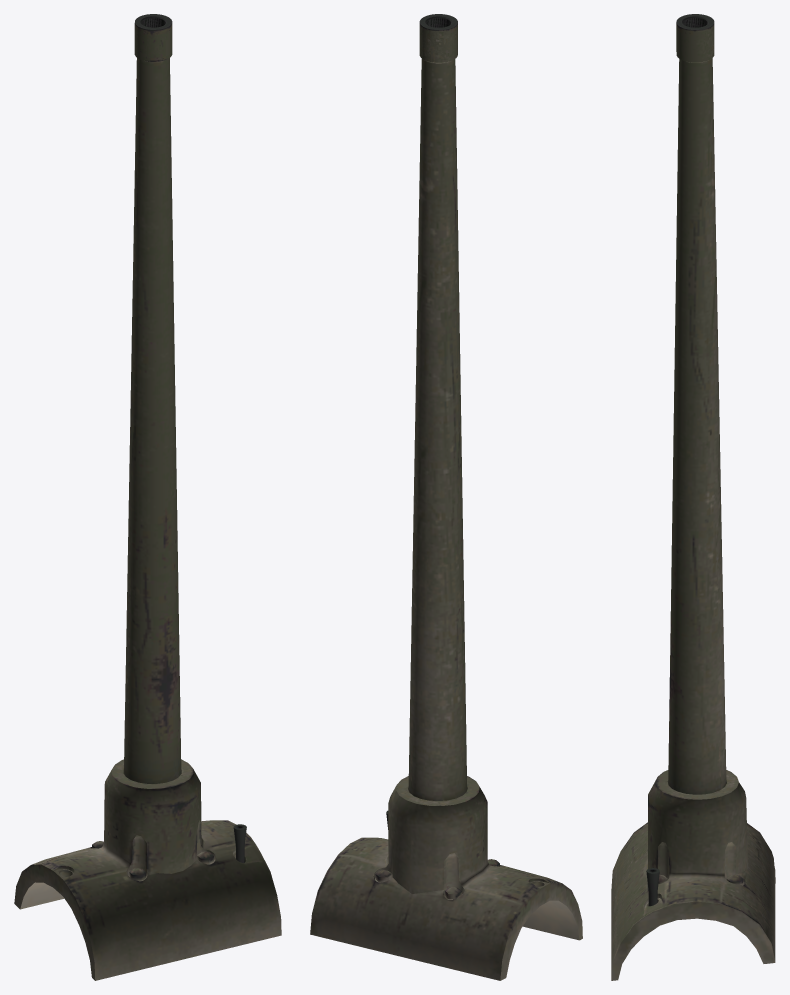
The model's file is Gun_01.glb.
3 views of the same model, side by side, from view 1: azimuth 30°, elevation 25°; view 2: azimuth 150°, elevation 25°; view 3: azimuth 270°, elevation 25° (orthographic). The views are drawn at different scales.
Parts seen in each view (by area): view 1: set_0_group_0; view 2: set_0_group_0; view 3: set_0_group_0.
Boxes of the visible parts, <box> form: set_0_group_0: <box>14,14,281,980</box>; set_0_group_0: <box>310,14,582,980</box>; set_0_group_0: <box>611,14,775,980</box>.
Size of the model in its own units: 0.7499 by 3.48 by 0.5639.
1 material, 1 textured.
